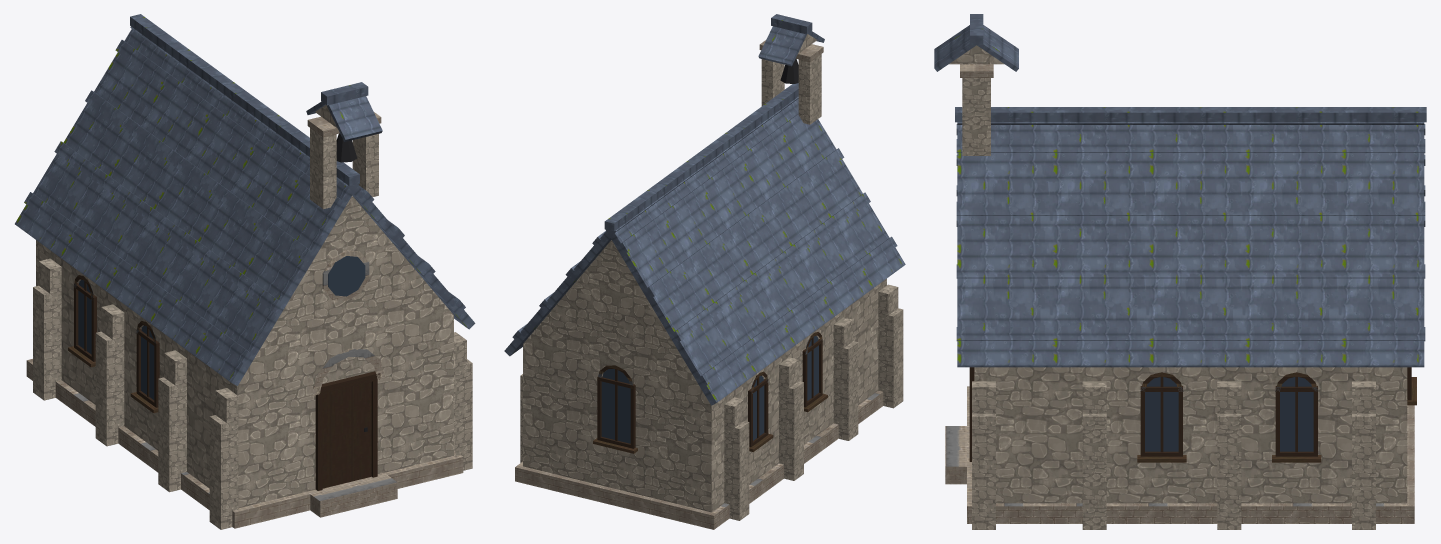
Rendered from chapel.glb.
The picture shows the model from 3 angles, left to right: view 1: azimuth 30°, elevation 25°; view 2: azimuth 150°, elevation 25°; view 3: azimuth 270°, elevation 25°; orthographic projection. The views are drawn at different scales.
Visible parts, largest first — view 1: chapel; view 2: chapel; view 3: chapel.
Part boxes in pixels (x1,y1,x2,y2): chapel: (15,14,475,529); chapel: (504,14,905,529); chapel: (934,14,1426,529).
Size of the model in its own units: 6.5 by 10.07 by 10.23.
6 materials, 4 textured.
